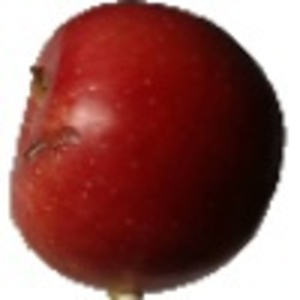maçã braeburn: (8, 1, 289, 294)
